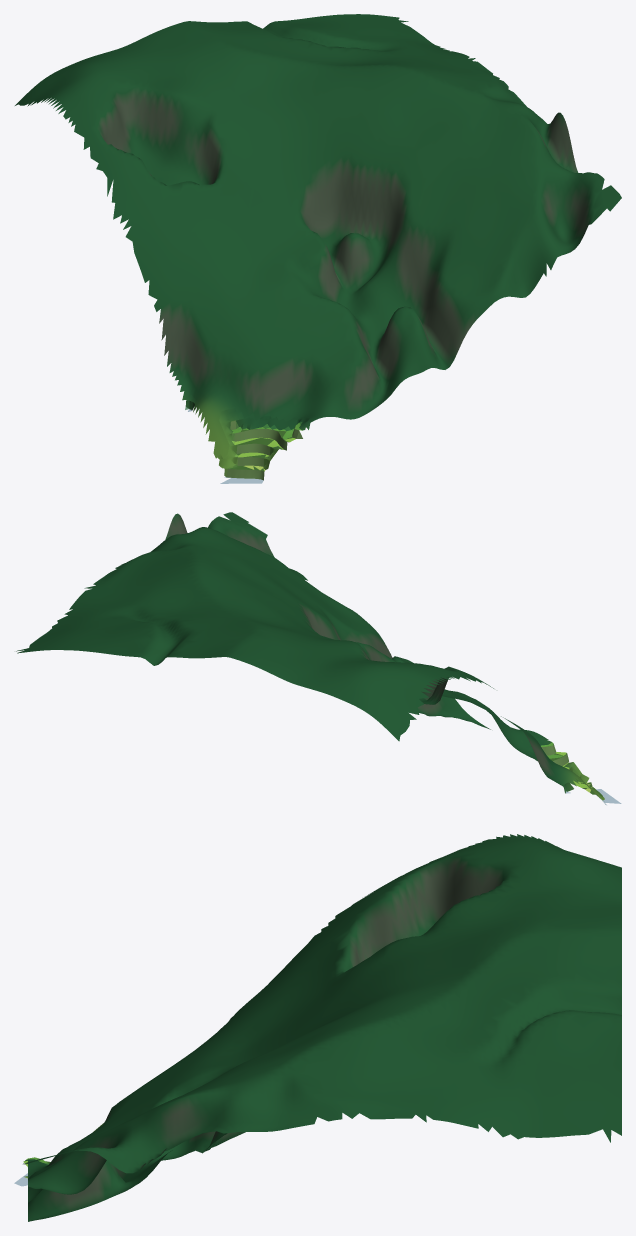
The model's file is payo_land_xm2_y3.glb.
3 views of the same model, one above another, from view 1: azimuth 30°, elevation 25°; view 2: azimuth 150°, elevation 25°; view 3: azimuth 270°, elevation 25° (orthographic). The views are drawn at different scales.
Parts seen in each view (by area): view 1: payo_land_xm2_y3; view 2: payo_land_xm2_y3; view 3: payo_land_xm2_y3.
Part boxes in pixels (x1,y1,x2,y2): payo_land_xm2_y3: (15,14,621,483); payo_land_xm2_y3: (16,512,621,805); payo_land_xm2_y3: (14,834,621,1221).
Size of the model in its own units: 268 by 167 by 261.
